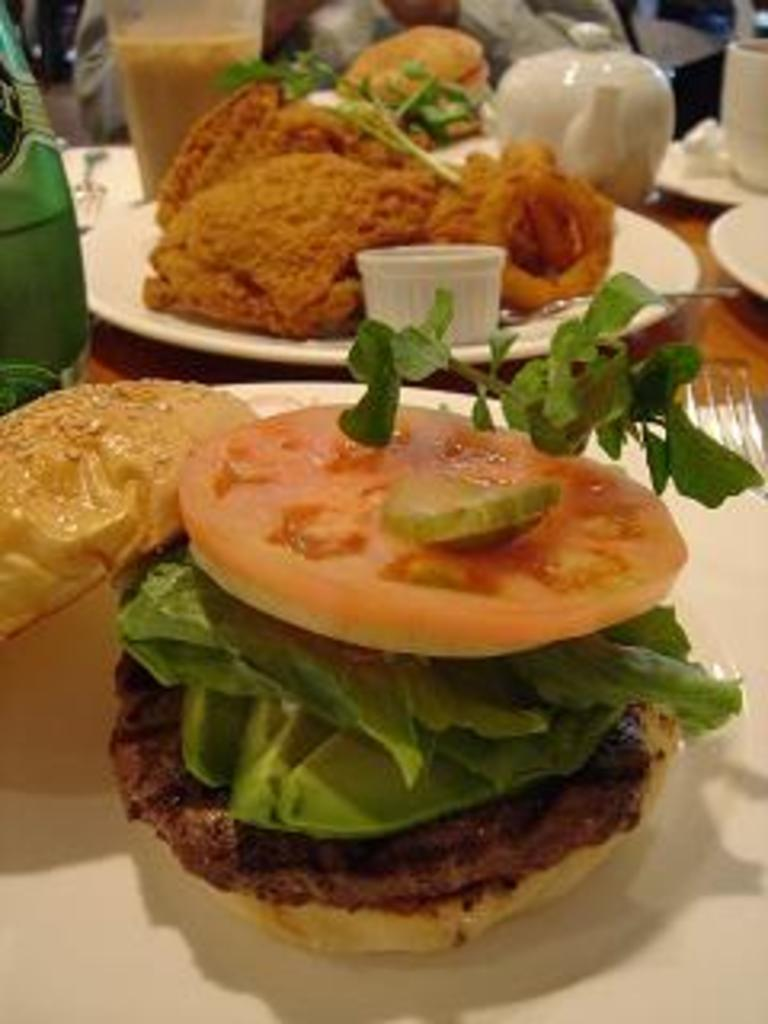Hamburger: (0, 380, 748, 960)
